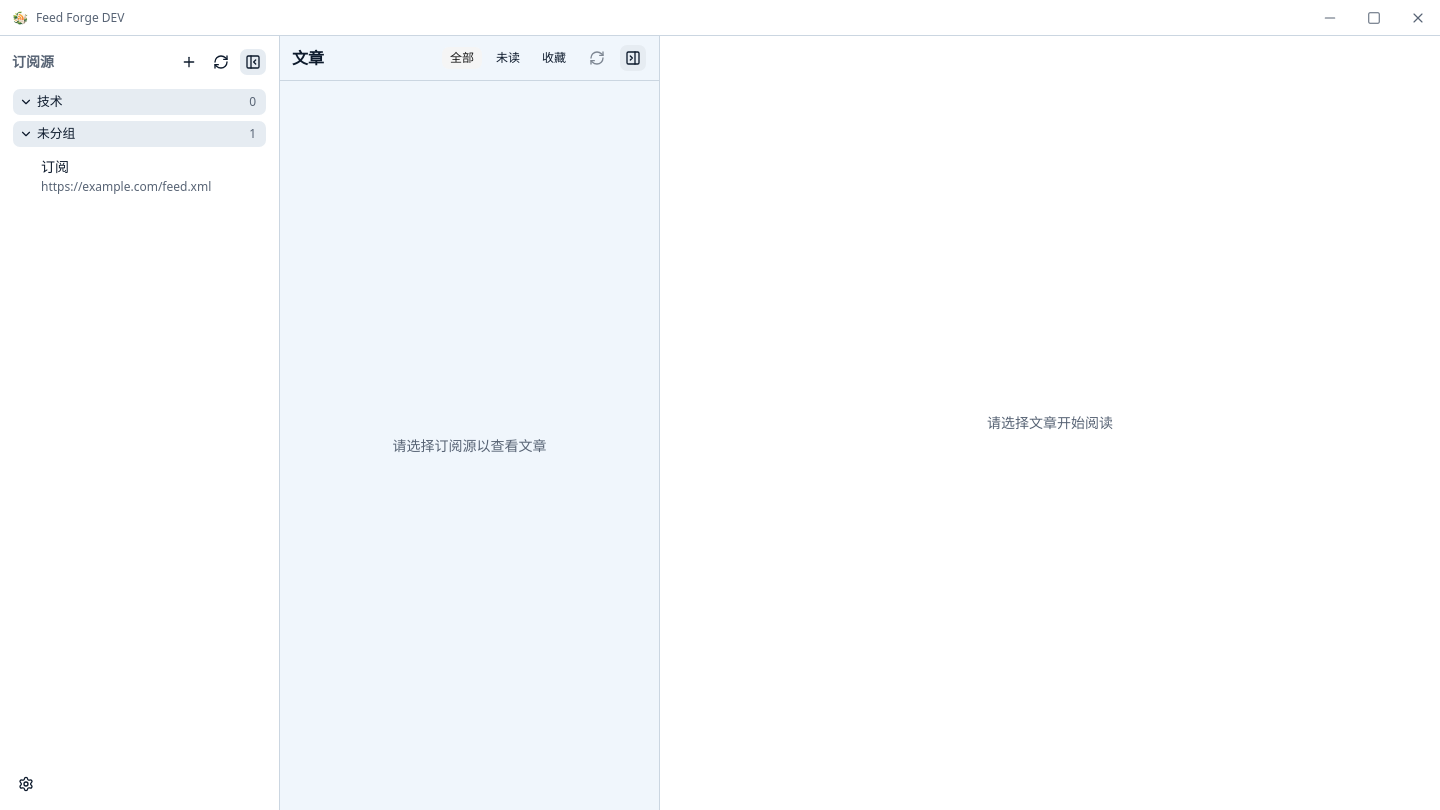
Test: adds a feed to the selected group from the title dialog
The image size is (1440, 810).
Click the button named "添加订阅源" at (189, 62), box [175, 48, 203, 76]
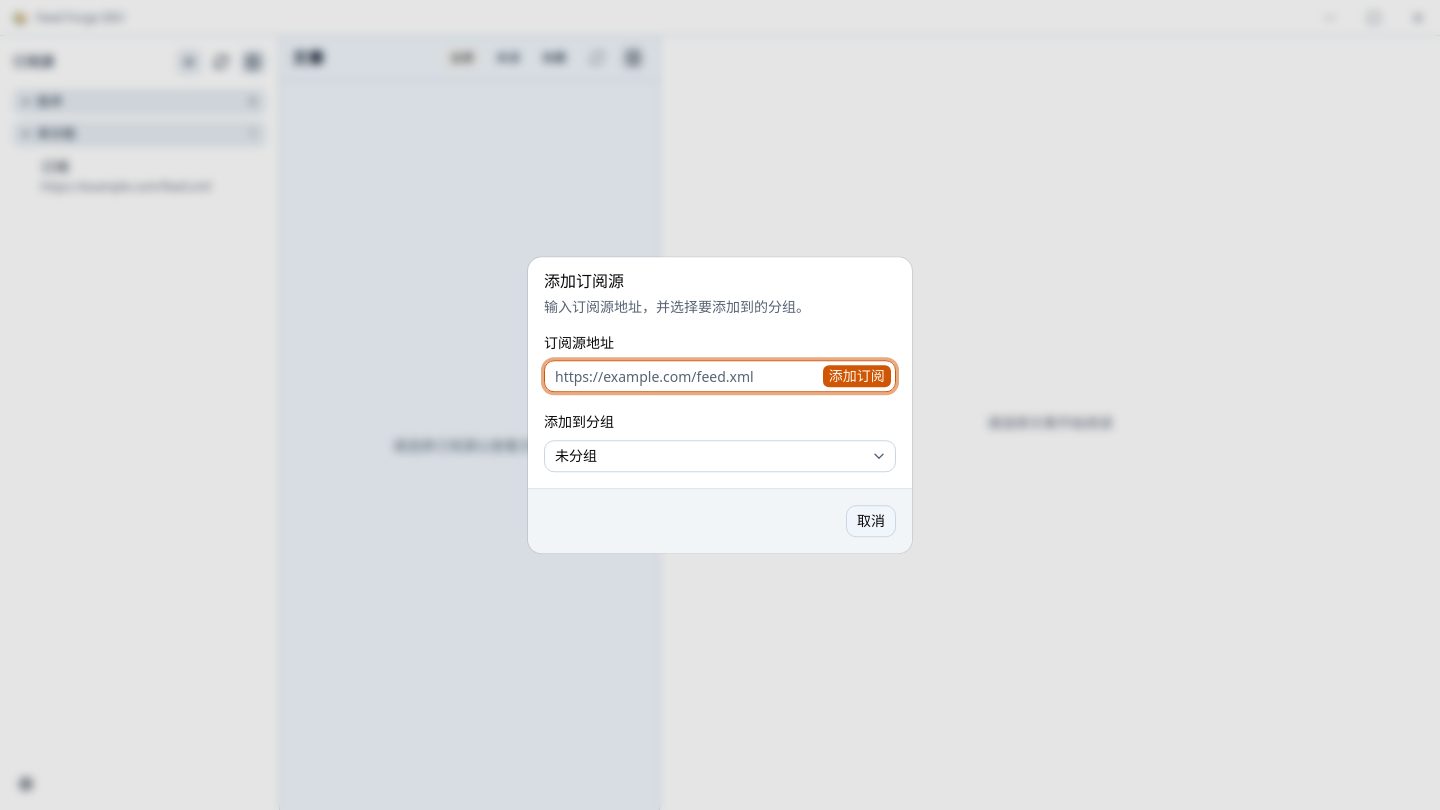
Click the dropdown named "添加到分组" at (576, 455), box [544, 440, 896, 472]
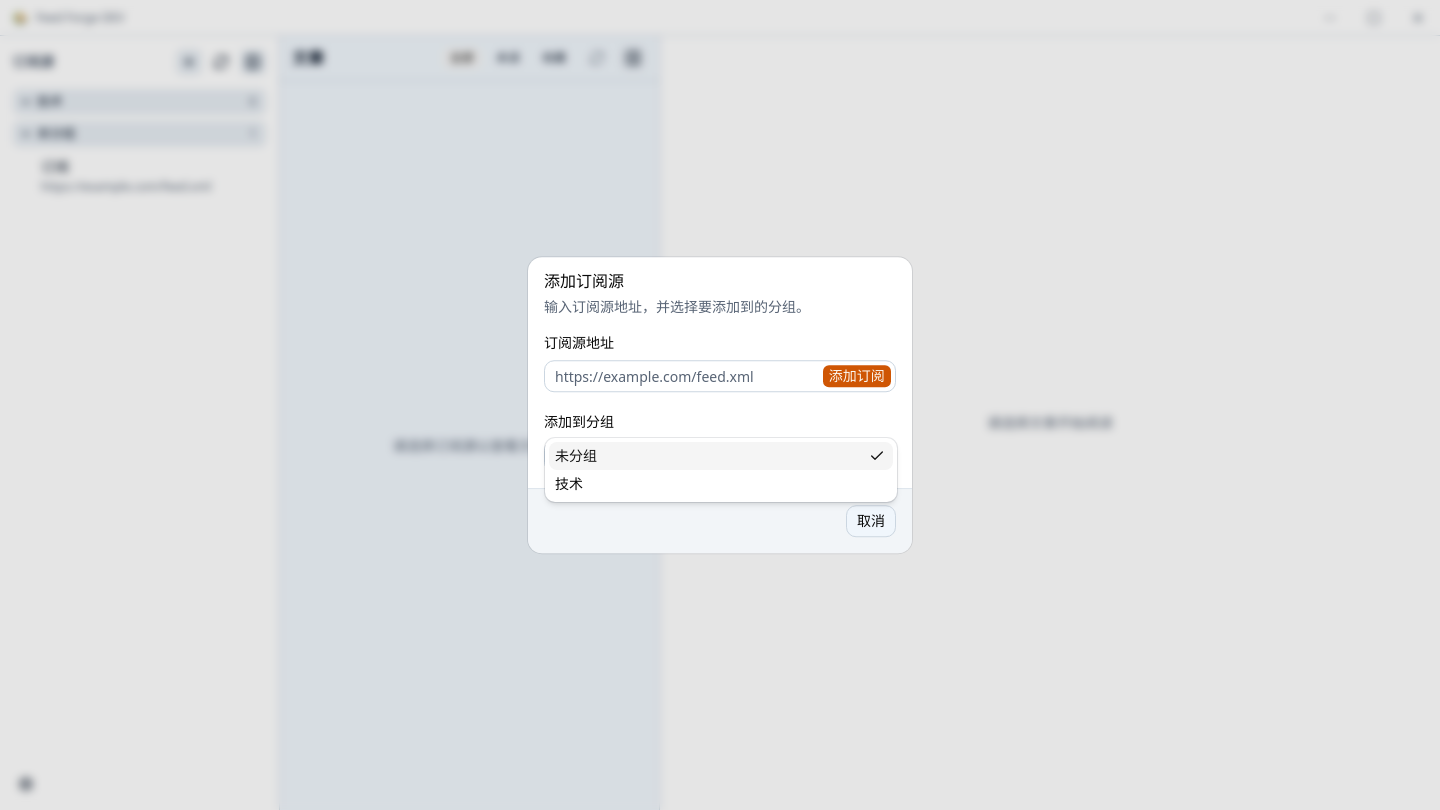
Click the option "技术" at (569, 483), box [555, 474, 583, 493]
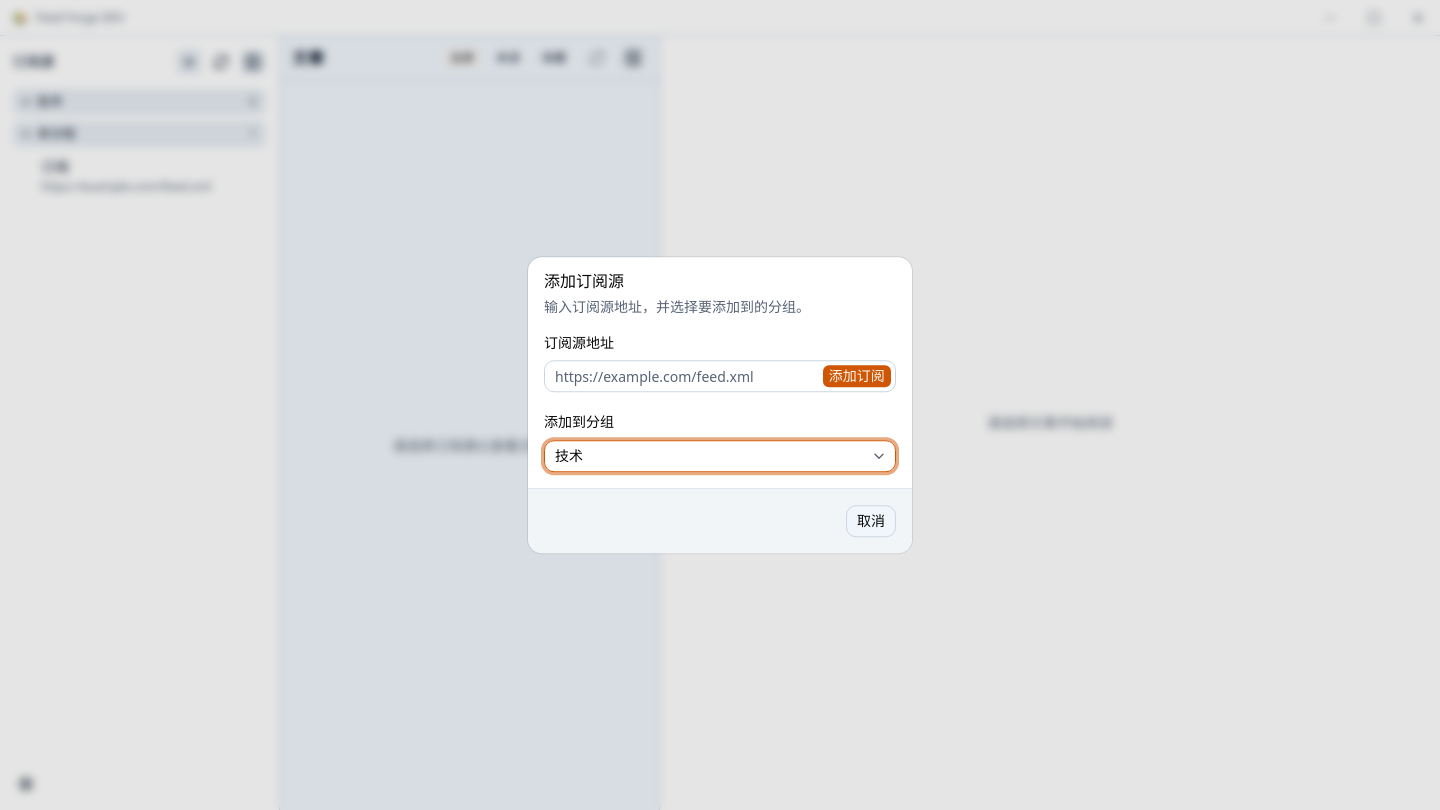
Type "https://example.com/new.xml" into the field labelled "订阅源地址" at (683, 376), box [545, 360, 822, 392]
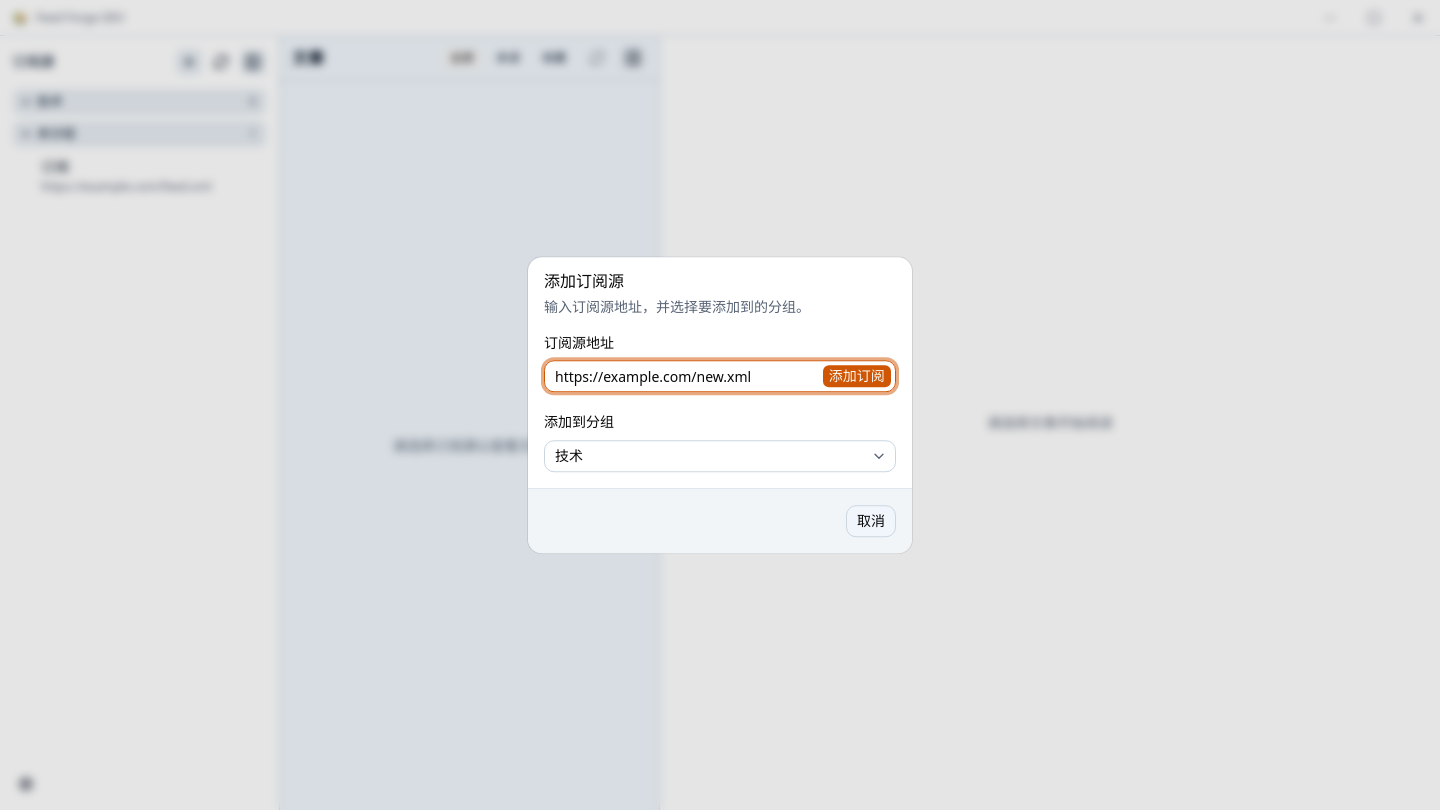
Click the button "添加订阅" at (857, 376), box [822, 364, 892, 388]
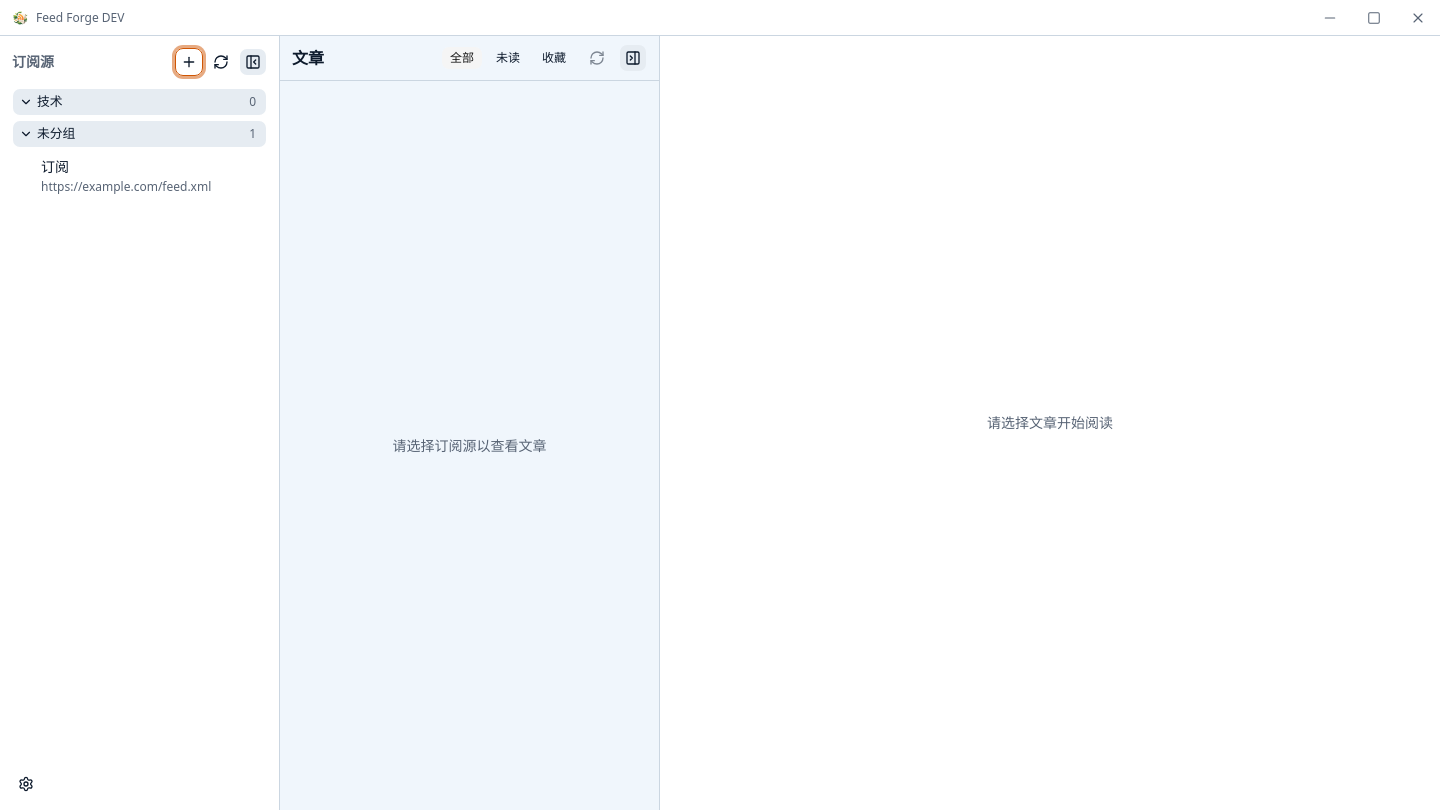
Expected: the heading "添加订阅源" is gone
